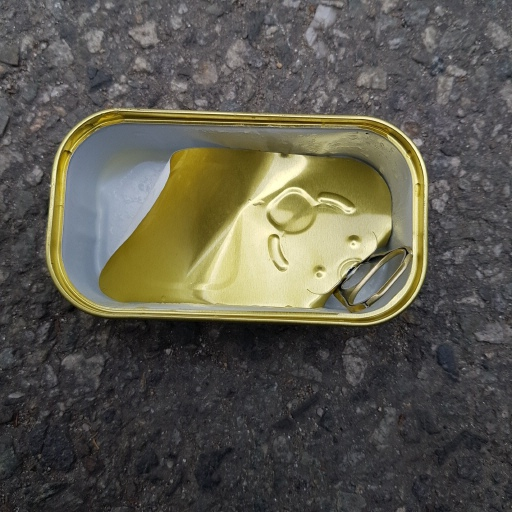Metal_2: (40, 108, 433, 329)
